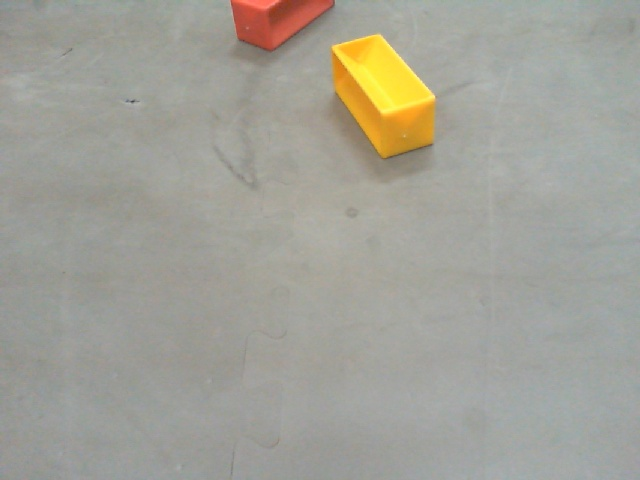RedSample: (231, 1, 338, 51)
YellowSample: (329, 33, 439, 161)
